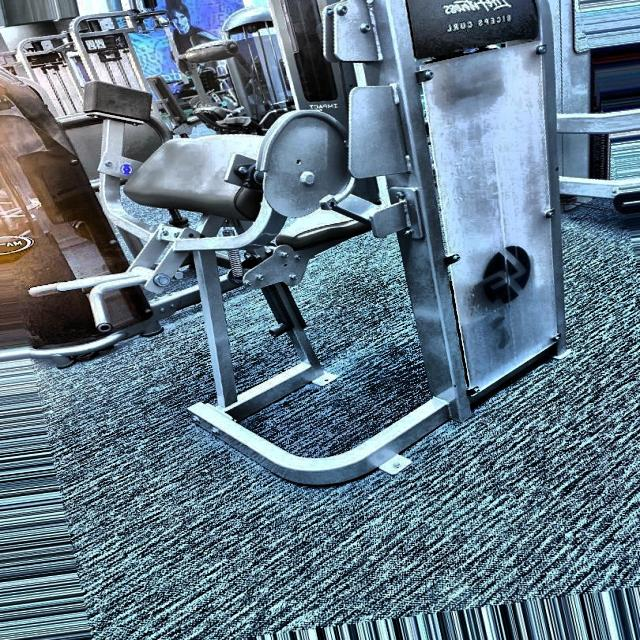bicep_curl_machine: (0, 0, 443, 521)
